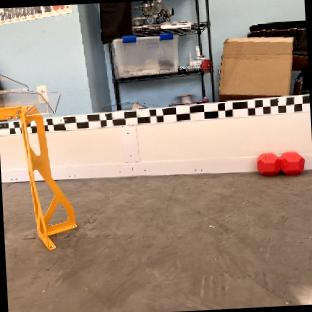V5_RED: (256, 150, 304, 176)
